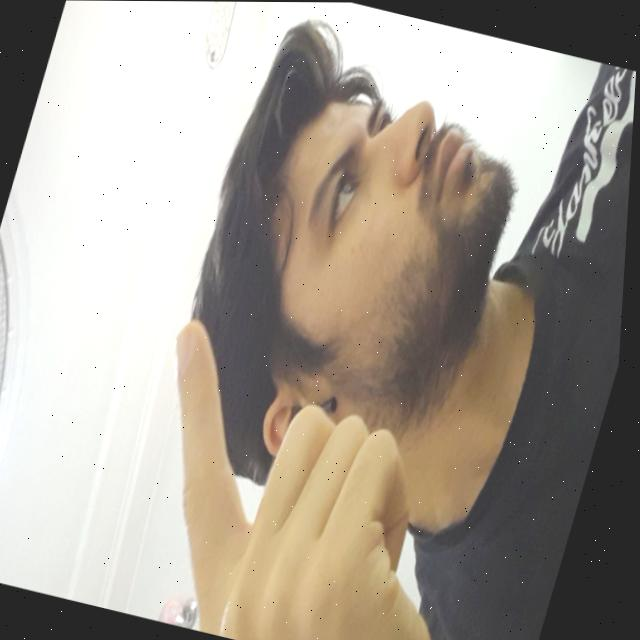Head: (145, 3, 559, 528)
One: (105, 310, 544, 640)
